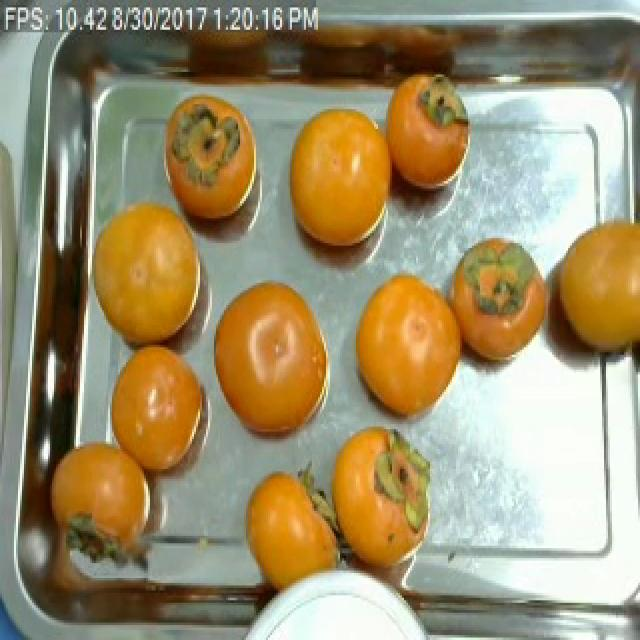Fruit: (314, 410, 448, 596), (208, 268, 338, 459), (342, 263, 472, 432), (276, 92, 400, 268), (98, 332, 228, 498), (532, 203, 640, 394), (88, 186, 204, 360), (50, 422, 168, 585), (230, 459, 352, 605), (444, 226, 558, 380), (154, 84, 268, 236), (374, 67, 478, 206)
